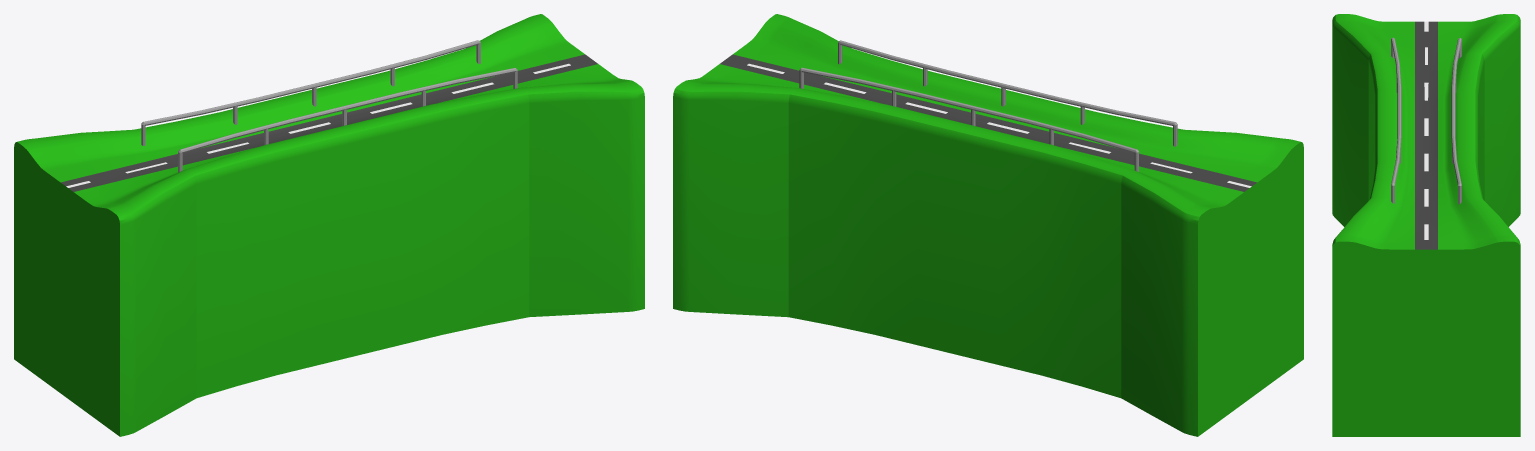
The model's file is Дорожка для мото.fbx.
3 renders of one model, left to right at view 1: azimuth 30°, elevation 25°; view 2: azimuth 150°, elevation 25°; view 3: azimuth 270°, elevation 25°, orthographic. The views are drawn at different scales.
Visible parts, largest first — view 1: Cube.025, Cylinder.001, Cylinder; view 2: Cube.025, Cylinder, Cylinder.001; view 3: Cube.025, Cylinder.001, Cylinder.
Part boxes in pixels (x1=…): Cube.025: x1=14, y1=14, x2=644, y2=436; Cylinder.001: x1=141, y1=40, x2=480, y2=145; Cylinder: x1=178, y1=68, x2=517, y2=172; Cube.025: x1=673, y1=14, x2=1303, y2=436; Cylinder: x1=838, y1=40, x2=1177, y2=146; Cylinder.001: x1=799, y1=67, x2=1138, y2=171; Cube.025: x1=1332, y1=14, x2=1520, y2=436; Cylinder.001: x1=1451, y1=38, x2=1461, y2=204; Cylinder: x1=1391, y1=37, x2=1401, y2=203.
Size of the model in its own units: 2000 by 871 by 700.
